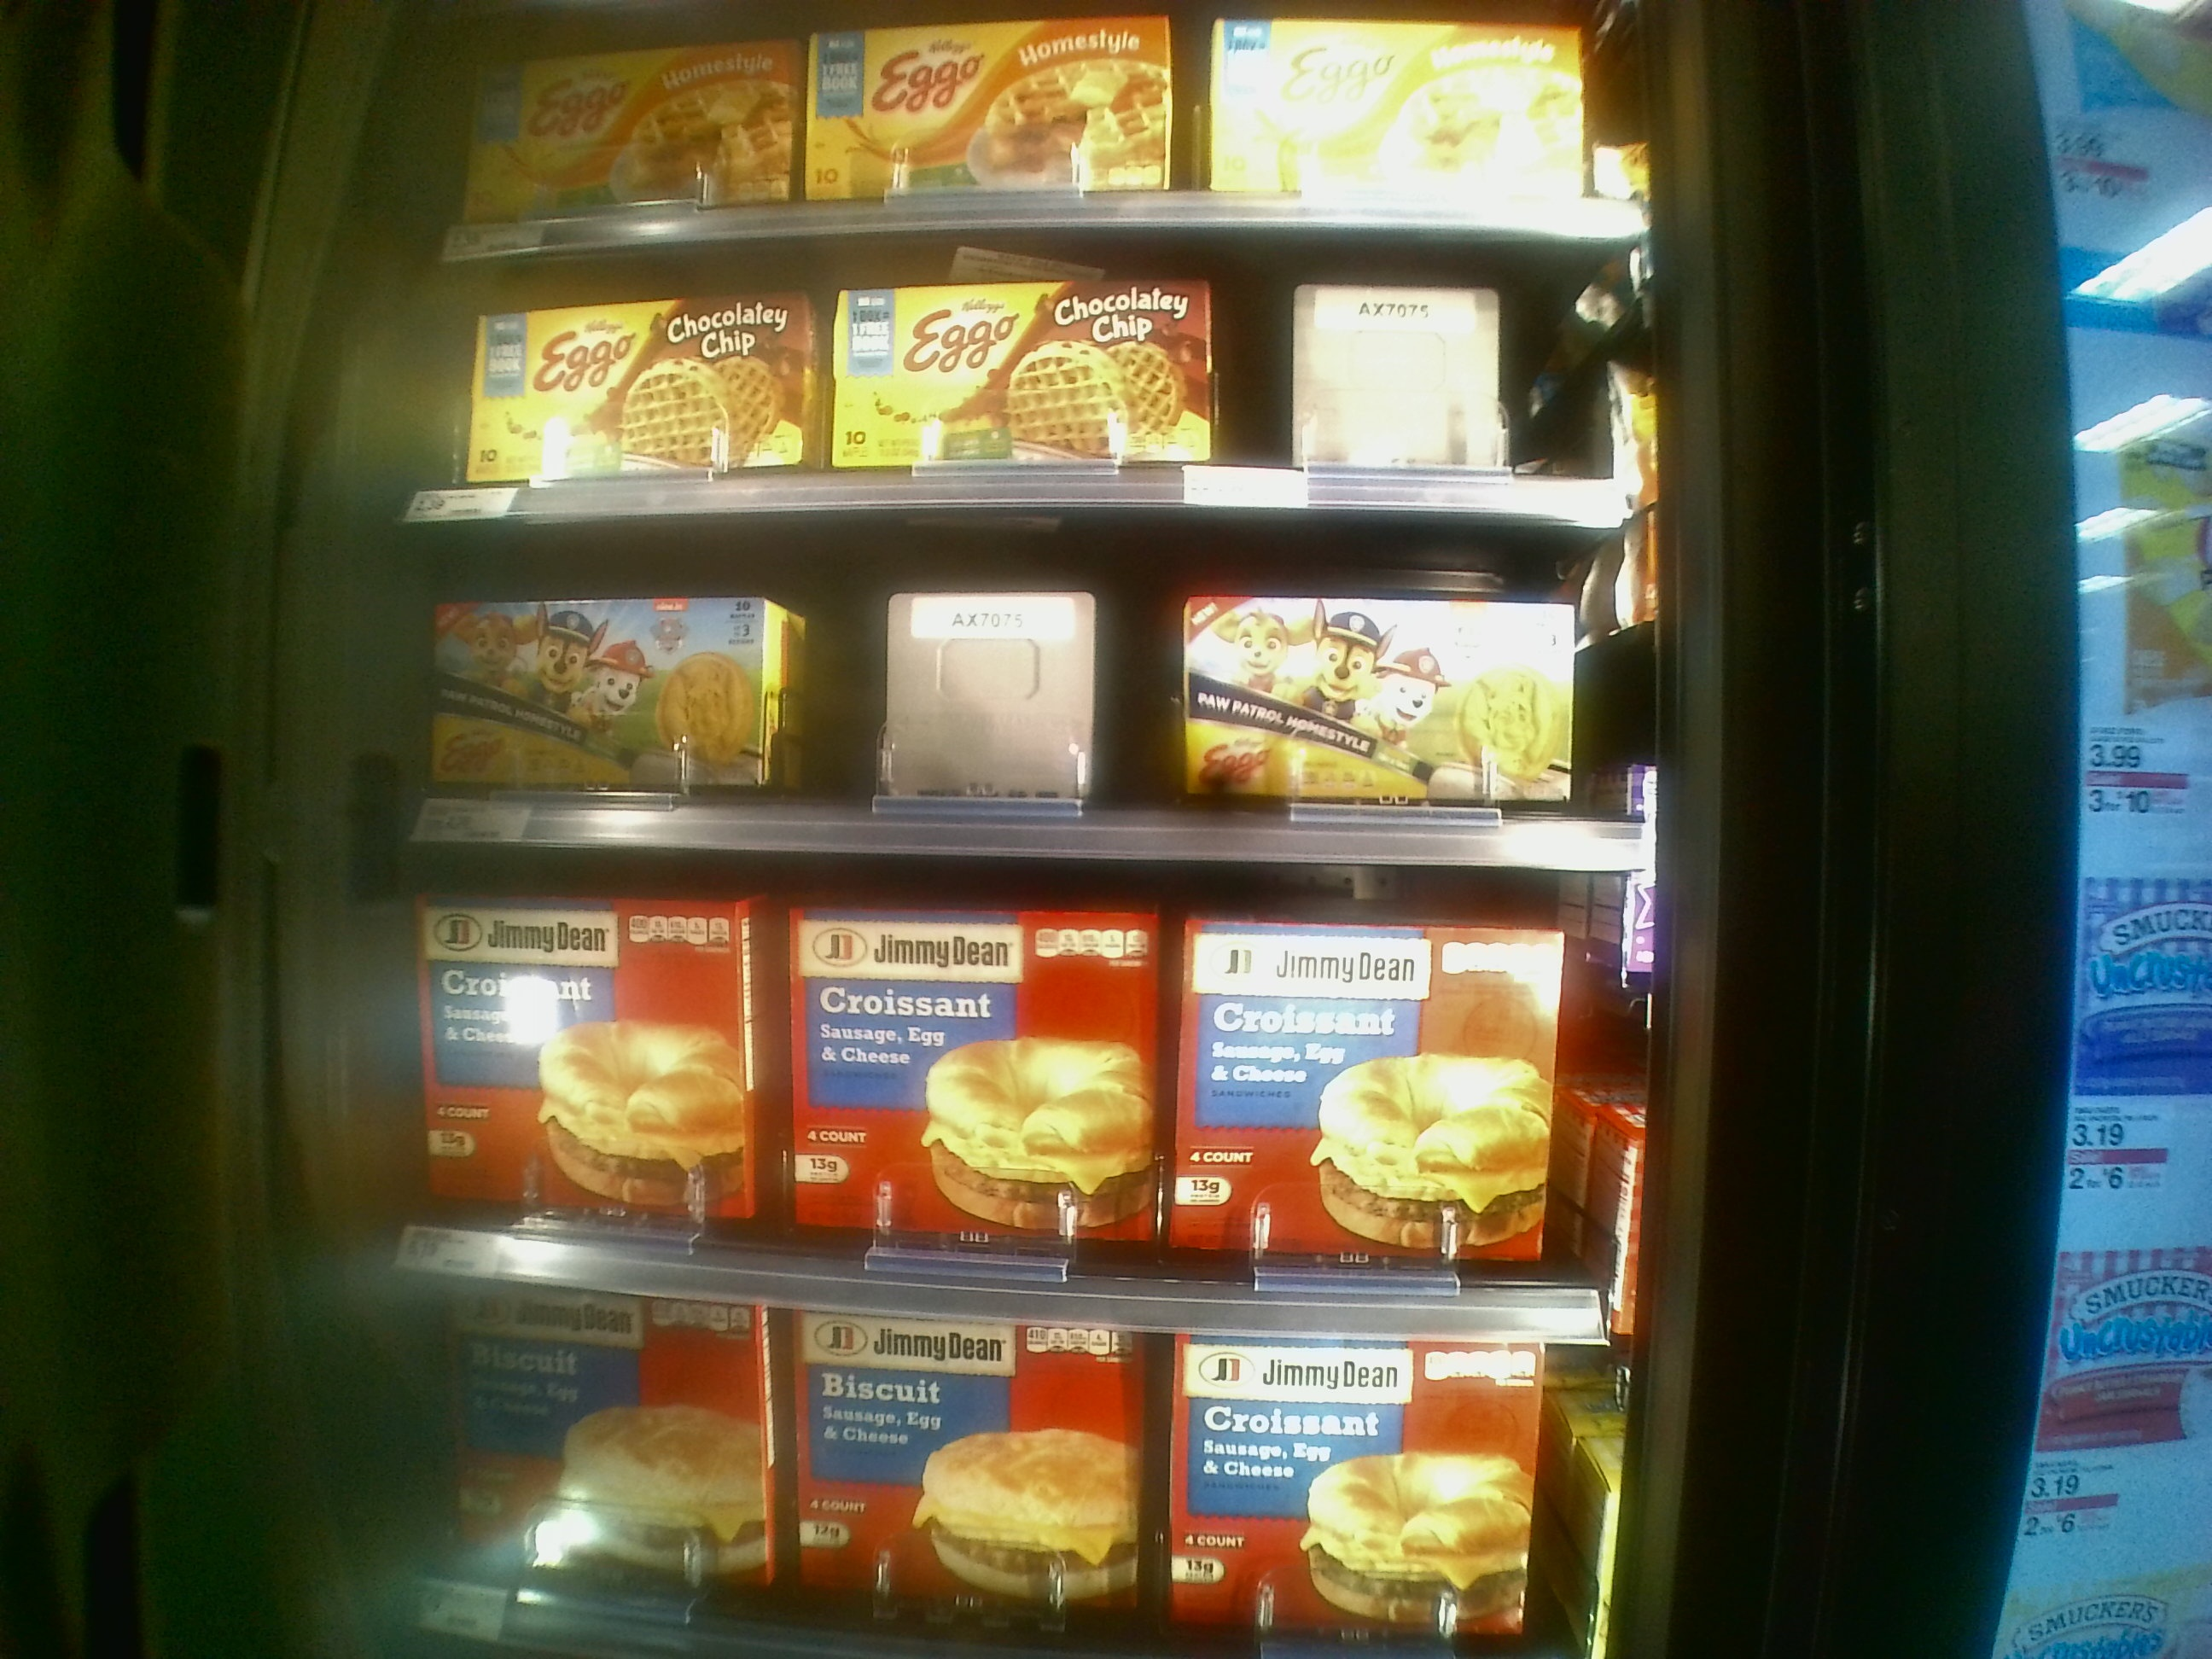shelf: (394, 831, 1627, 1333), (408, 533, 1620, 870), (411, 256, 1616, 523), (427, 7, 1646, 249)
